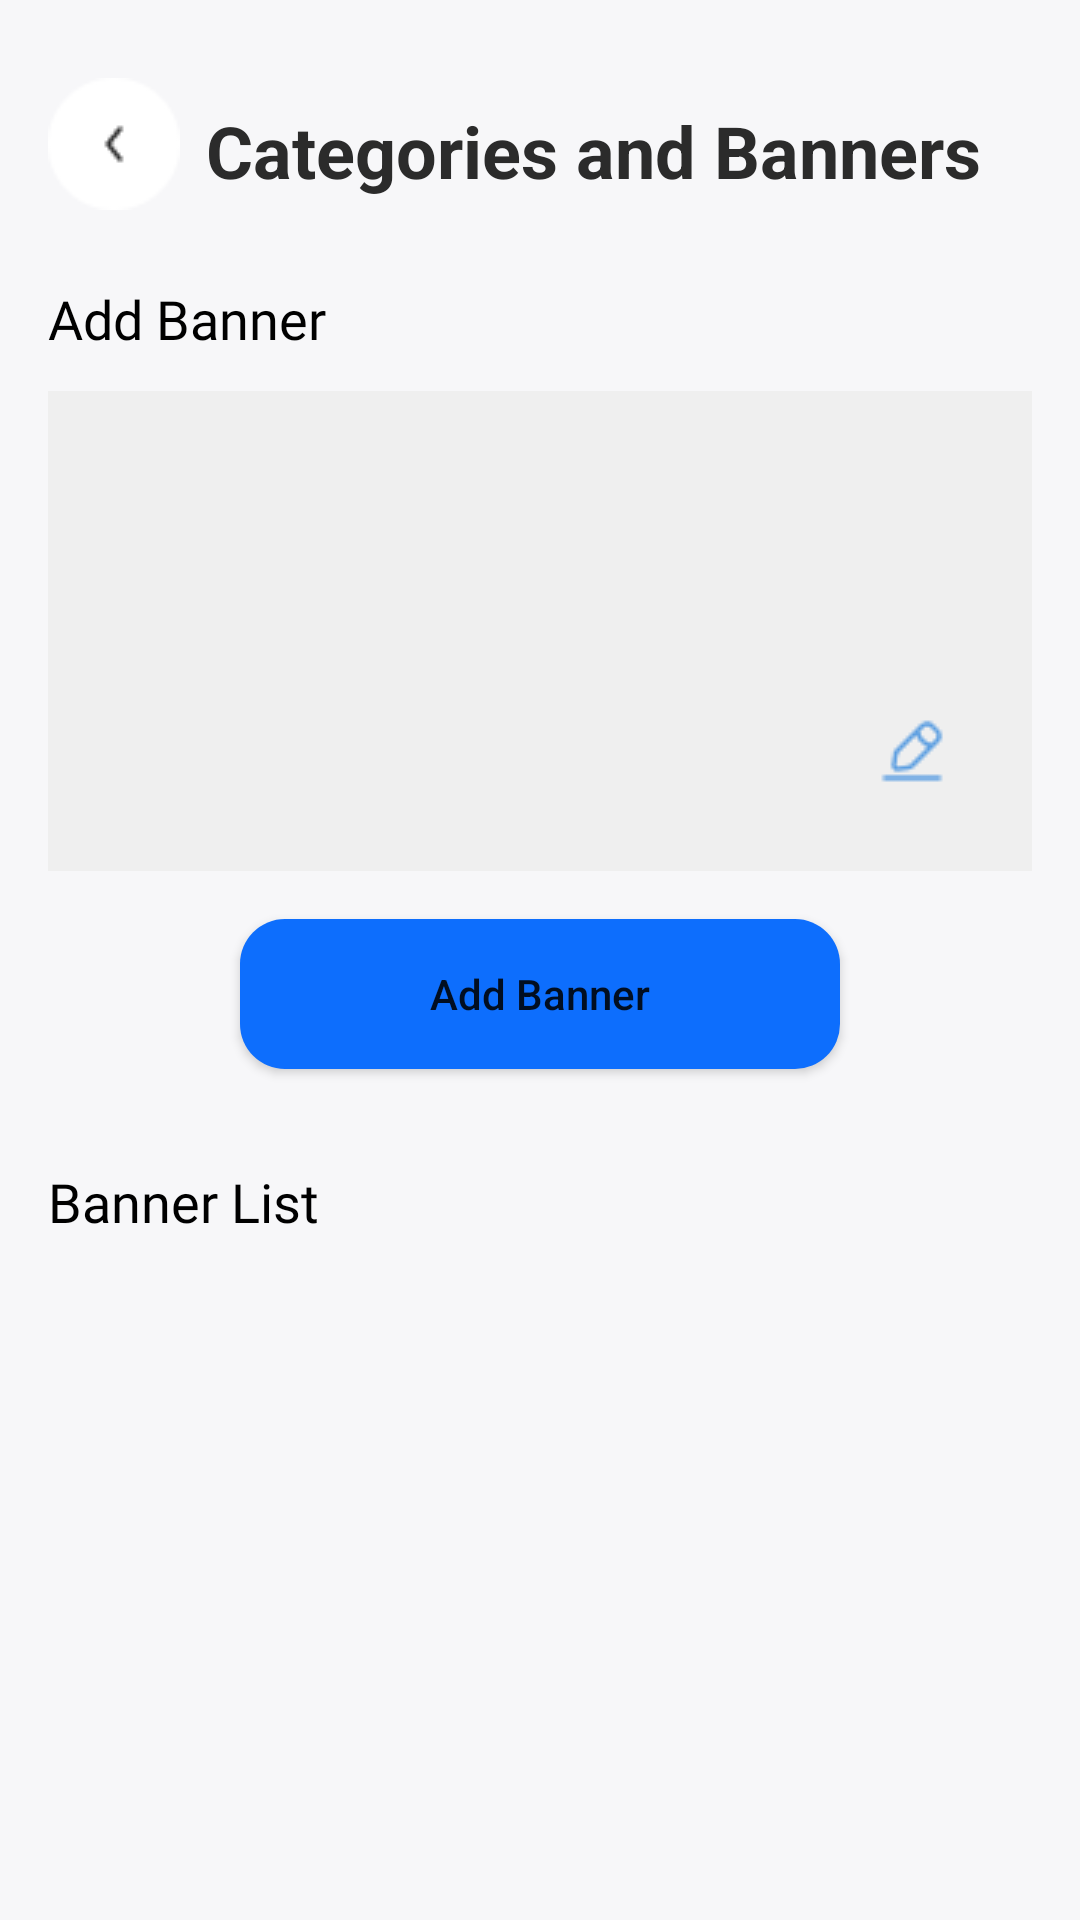

Screen size 1080w x 1920h. Icon name, then its box in pixels as (x1, y1, x2, y2):
back: (104, 125, 124, 163)
edit profile: (882, 720, 943, 782)
